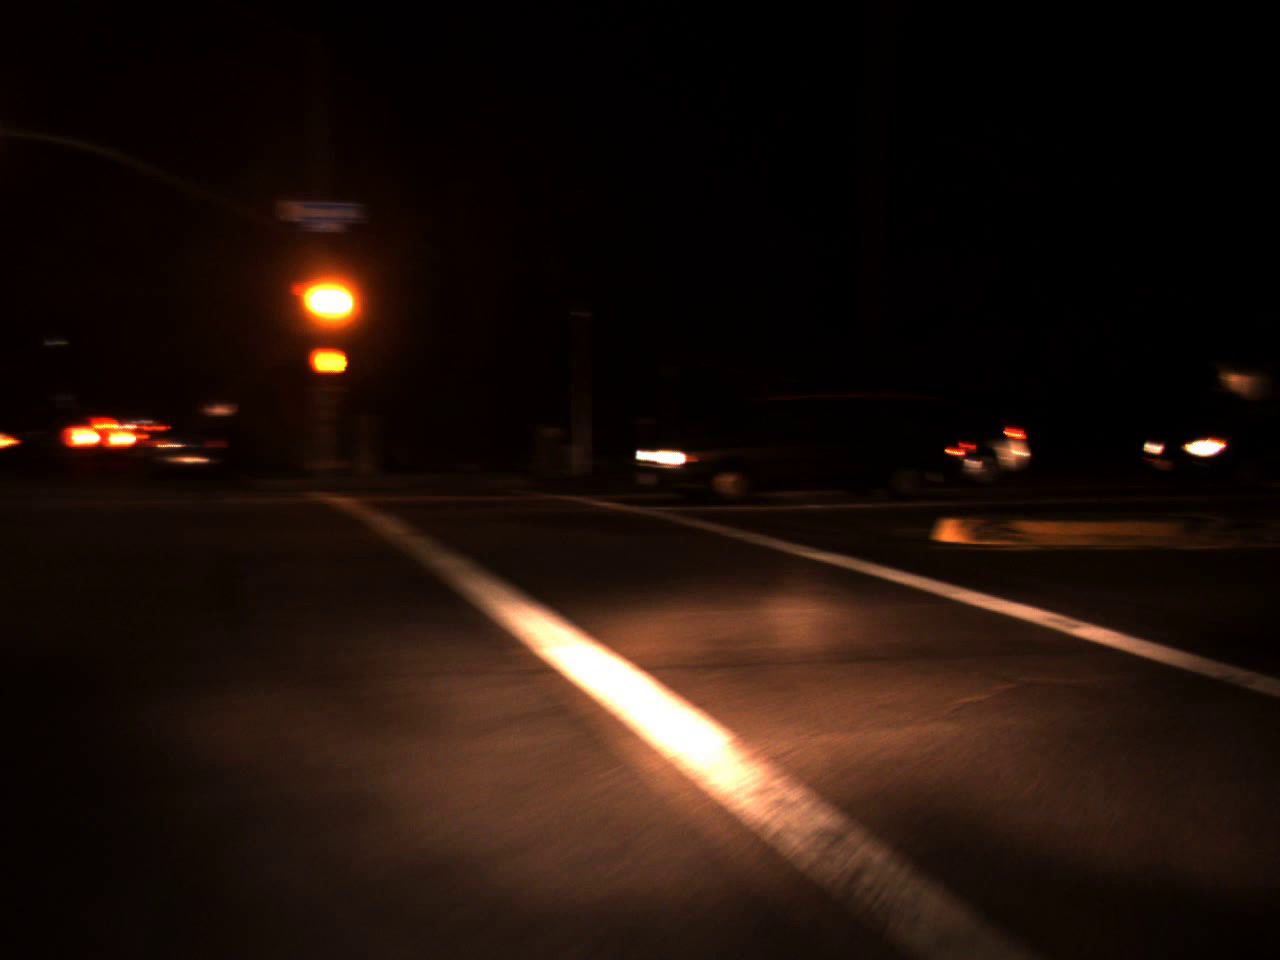warning: (307, 270, 350, 327)
